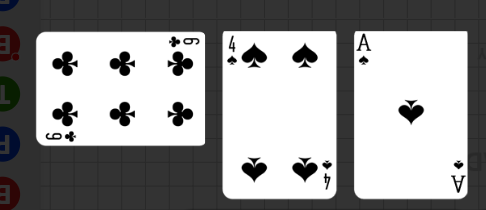4S: (226, 34, 239, 67)
6C: (44, 129, 79, 143)
AS: (448, 156, 466, 194)
